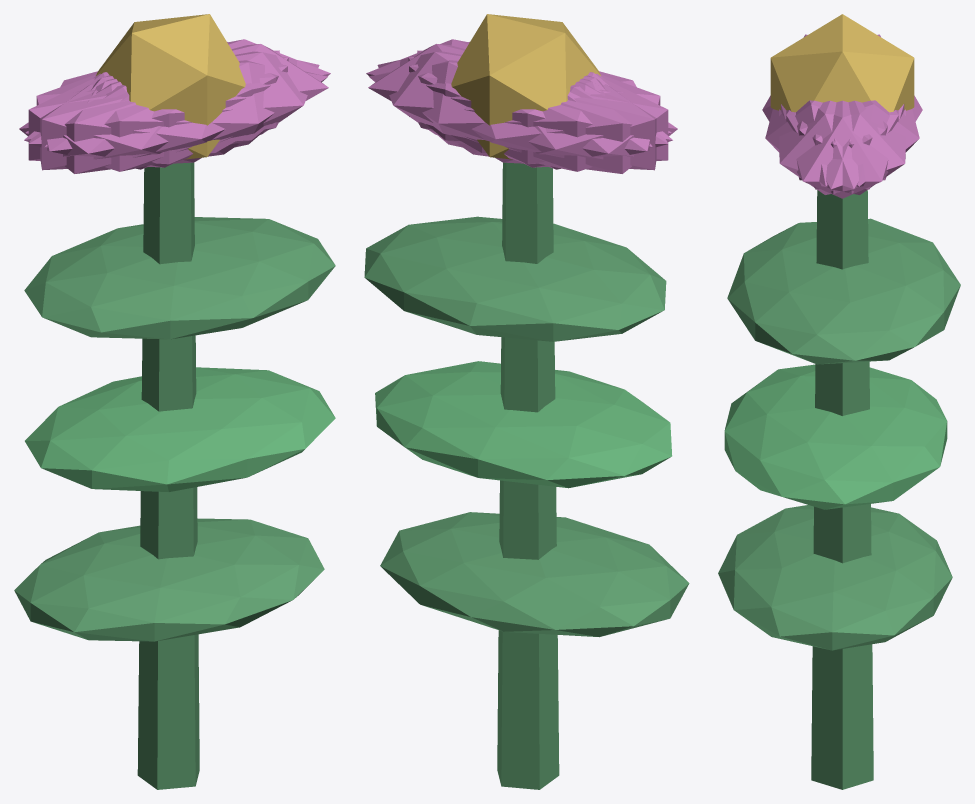
The model's file is jatropha-curcas.glb.
The picture shows the model from 3 angles, left to right: view 1: azimuth 30°, elevation 25°; view 2: azimuth 150°, elevation 25°; view 3: azimuth 270°, elevation 25°; orthographic projection.
Visible parts, largest first — view 1: leaf2, leaf1, leaf0, stem, center, petal1, petal6, petal2, petal5, petal7, petal0, petal4 (+2 smaller); view 2: leaf2, leaf0, leaf1, stem, center, petal8, petal3, petal7, petal4, petal2, petal0, petal5 (+2 smaller); view 3: leaf2, leaf1, leaf0, stem, center, petal0, petal5, petal4, petal8, petal1.
Part boxes in pixels (x1=…): leaf2: x1=24, y1=217, x2=335, y2=339; leaf1: x1=25, y1=367, x2=335, y2=491; leaf0: x1=14, y1=518, x2=324, y2=641; stem: x1=137, y1=162, x2=199, y2=789; center: x1=96, y1=14, x2=245, y2=159; petal1: x1=24, y1=60, x2=327, y2=171; petal6: x1=19, y1=73, x2=239, y2=173; petal2: x1=40, y1=50, x2=279, y2=170; petal5: x1=44, y1=51, x2=319, y2=164; petal7: x1=28, y1=57, x2=288, y2=167; petal0: x1=95, y1=44, x2=328, y2=153; petal4: x1=25, y1=39, x2=330, y2=144; leaf2: x1=364, y1=216, x2=666, y2=341; leaf0: x1=380, y1=512, x2=689, y2=637; leaf1: x1=375, y1=361, x2=672, y2=488; stem: x1=497, y1=162, x2=559, y2=789; center: x1=451, y1=14, x2=600, y2=159; petal8: x1=369, y1=60, x2=672, y2=171; petal3: x1=457, y1=73, x2=677, y2=173; petal7: x1=417, y1=50, x2=656, y2=170; petal4: x1=377, y1=51, x2=652, y2=164; petal2: x1=408, y1=57, x2=668, y2=167; petal0: x1=368, y1=44, x2=601, y2=153; petal5: x1=366, y1=39, x2=671, y2=144; leaf2: x1=727, y1=218, x2=960, y2=364; leaf1: x1=724, y1=364, x2=947, y2=509; leaf0: x1=718, y1=505, x2=952, y2=650; stem: x1=811, y1=190, x2=873, y2=789; center: x1=770, y1=14, x2=914, y2=112; petal0: x1=781, y1=100, x2=904, y2=198; petal5: x1=779, y1=100, x2=898, y2=194; petal4: x1=786, y1=100, x2=905, y2=194; petal8: x1=797, y1=100, x2=919, y2=186; petal1: x1=765, y1=100, x2=887, y2=186.
Size of the model in its own units: 0.1452 by 0.3492 by 0.1035.
